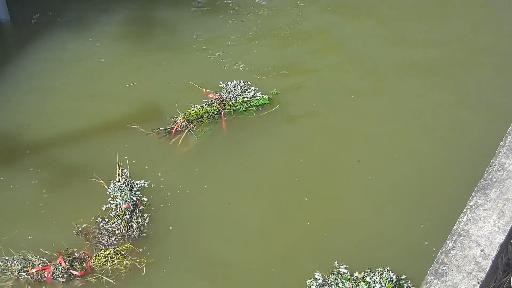twig: (146, 77, 295, 150), (0, 241, 175, 285), (85, 155, 168, 242), (282, 253, 425, 288)
